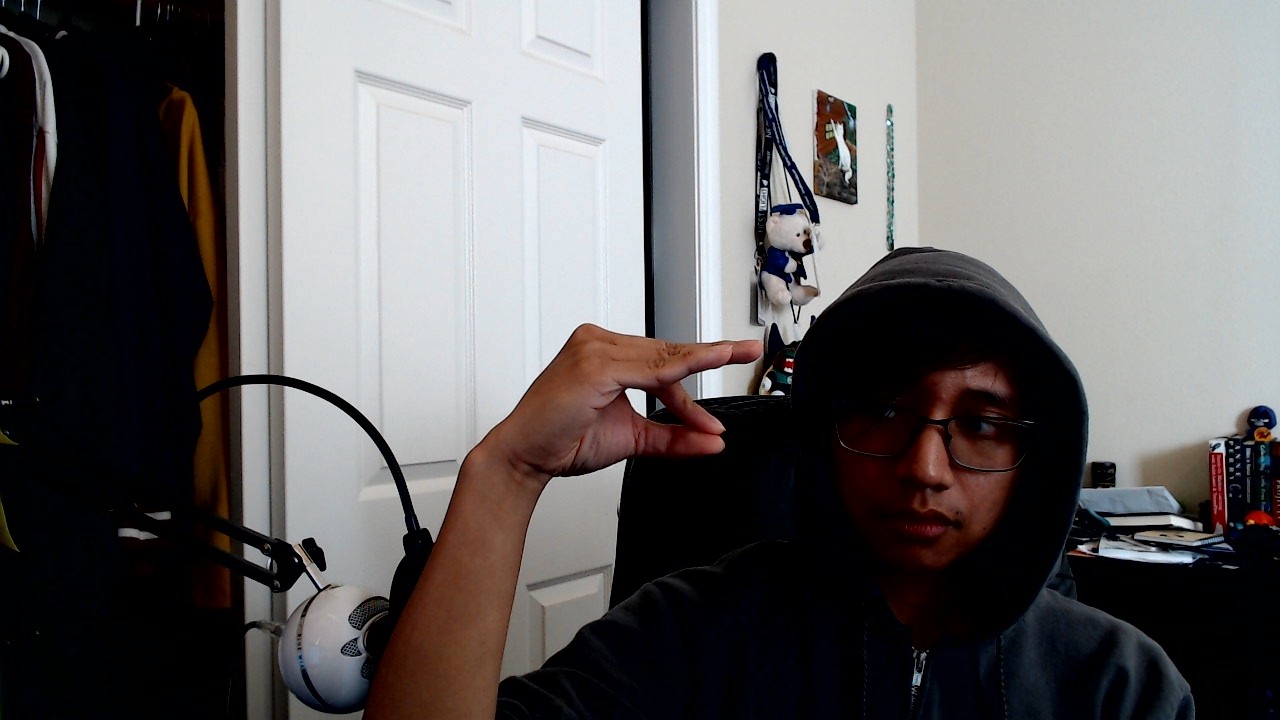z: (453, 322, 766, 479)
